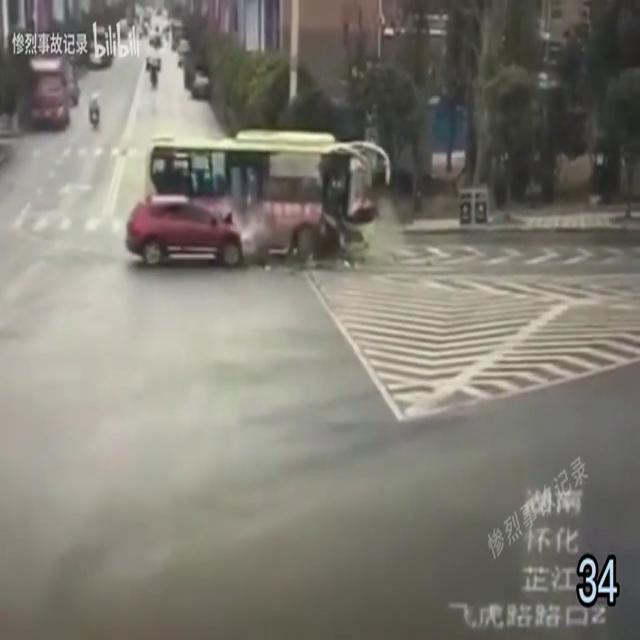accident: (124, 127, 393, 279)
non-accident: (144, 53, 162, 89)
